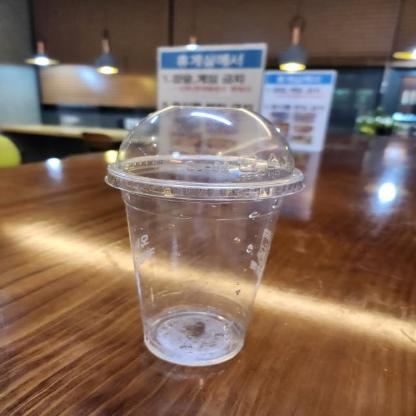Plastic Cup: (108, 104, 304, 369)
